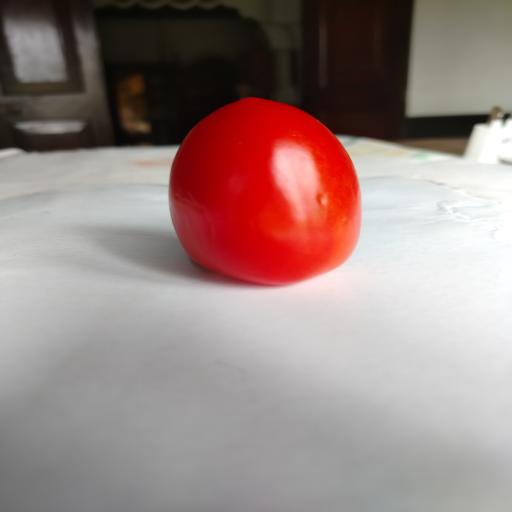ripe: (169, 98, 361, 285)
